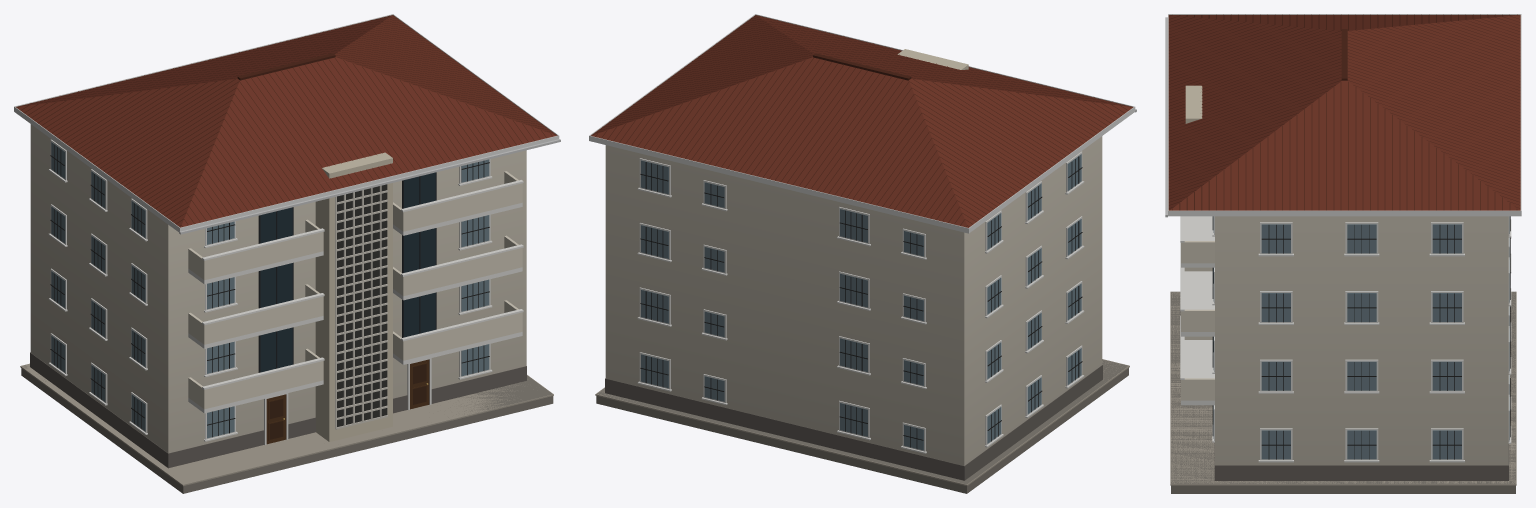
The model's file is ns_flats4.glb.
3 views of the same model, side by side, from view 1: azimuth 30°, elevation 25°; view 2: azimuth 150°, elevation 25°; view 3: azimuth 270°, elevation 25° (orthographic). The views are drawn at different scales.
Parts seen in each view (by area): view 1: ns_flats4; view 2: ns_flats4; view 3: ns_flats4.
Part boxes in pixels (x1,y1,x2,y2): ns_flats4: (14,14,560,493); ns_flats4: (589,14,1136,493); ns_flats4: (1165,14,1521,493).
Bounding box in the file's own units: 19.12 × 15.53 × 14.56.
